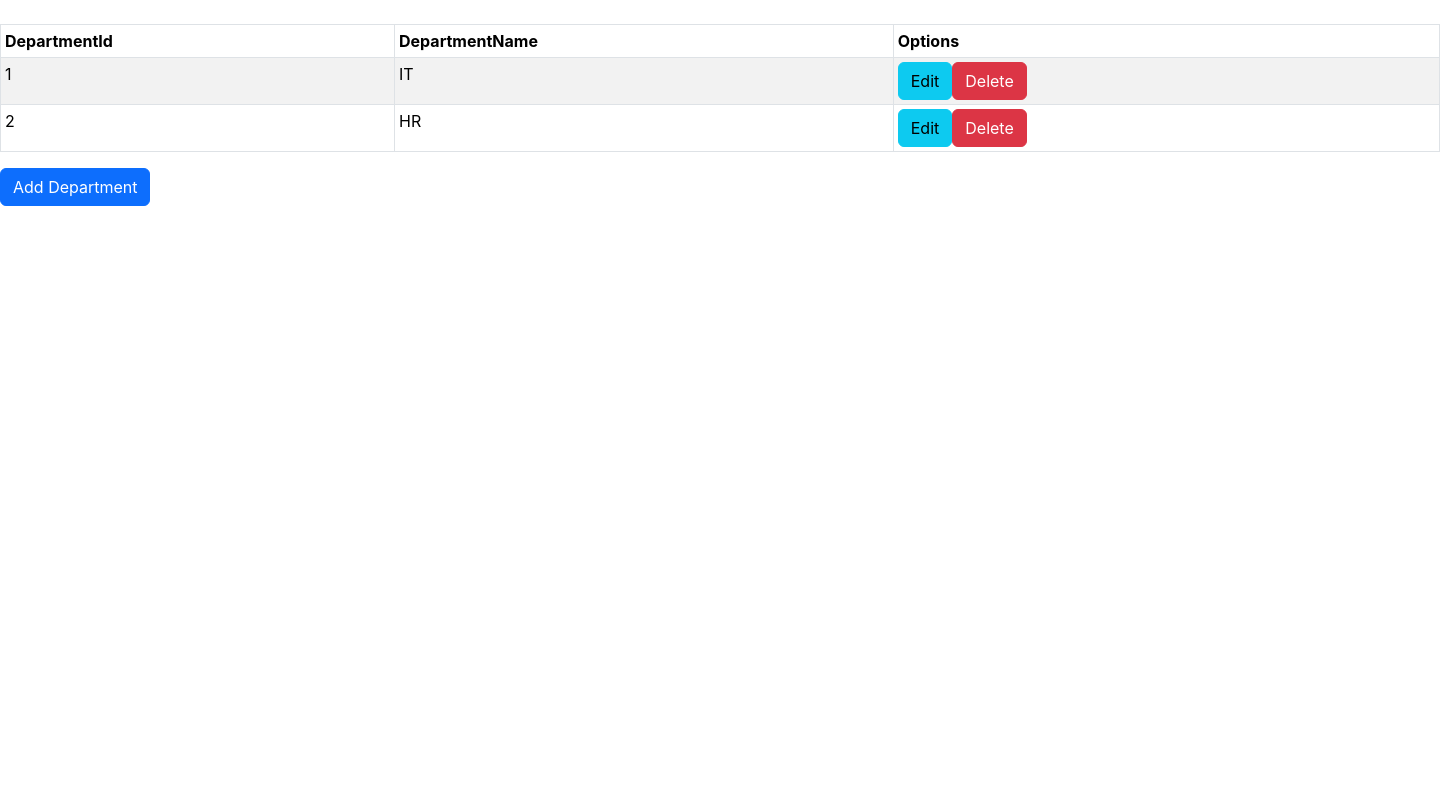
Test: Department Component › opens EditDepModal when Edit button is clicked
Expected: the text "HR" is shown, top-left (394, 104), bottom-right (893, 152)
# Click the edit button for "HR"
Click the button "Edit" in the row of "HR" at x=925, y=128, box top-left (898, 109), bottom-right (952, 147)
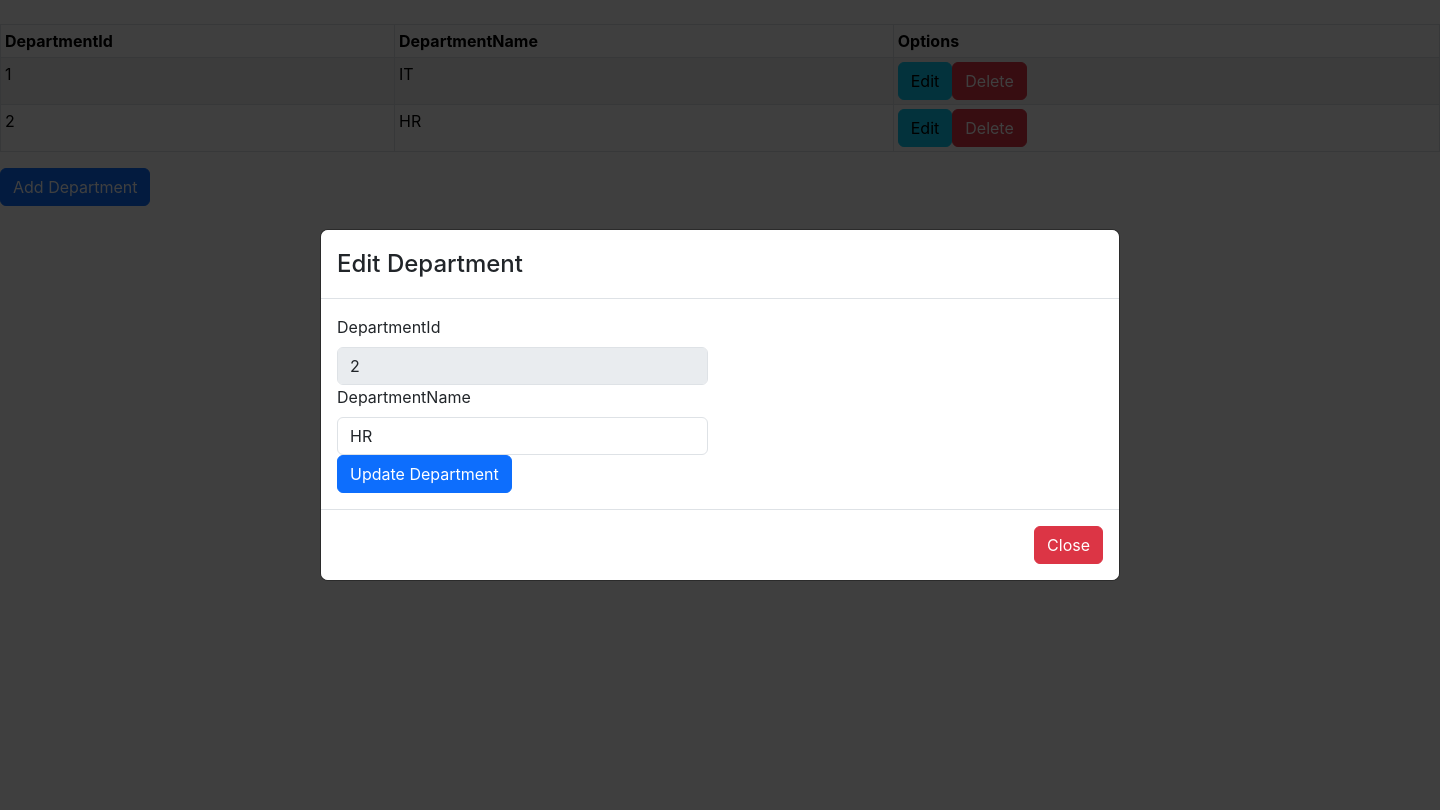
Expected: the button "Update Department" is shown, top-left (337, 455), bottom-right (512, 493)
